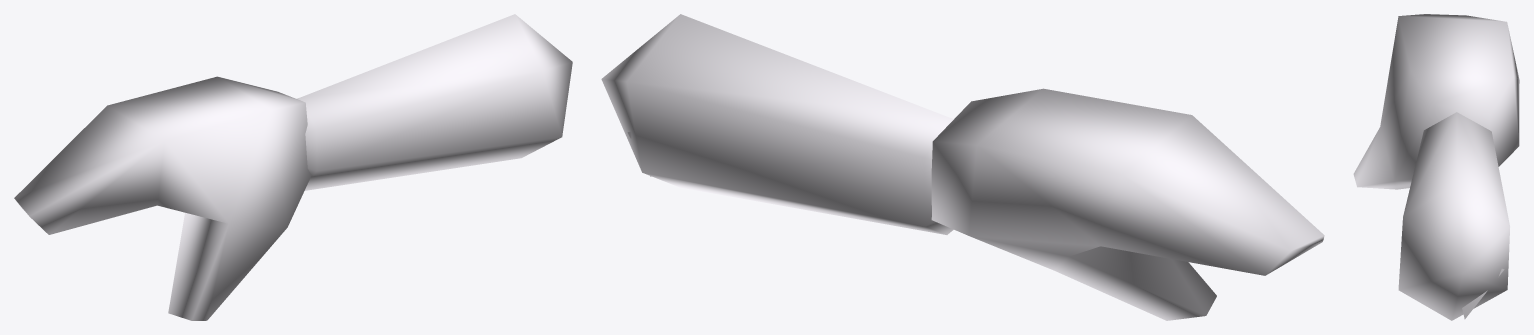
File: PeachAnteBrazoD.obj
3 renders of one model, left to right at view 1: azimuth 30°, elevation 25°; view 2: azimuth 150°, elevation 25°; view 3: azimuth 270°, elevation 25°, orthographic. The views are drawn at different scales.
Visible parts, largest first — view 1: PeachBrazoAnteD; view 2: PeachBrazoAnteD; view 3: PeachBrazoAnteD.
Part boxes in pixels (x1=…): PeachBrazoAnteD: x1=14, y1=14, x2=572, y2=320; PeachBrazoAnteD: x1=601, y1=14, x2=1324, y2=320; PeachBrazoAnteD: x1=1353, y1=14, x2=1519, y2=320.
Size of the model in its own units: 0.4959 by 0.1537 by 0.1328.
